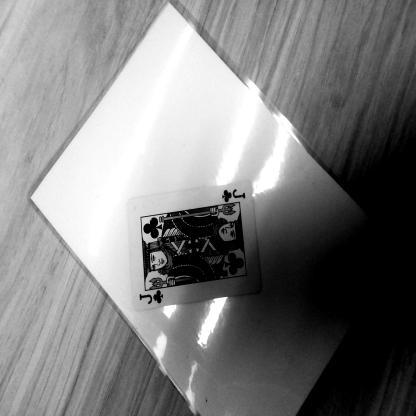JS: (216, 182, 256, 216), (139, 284, 174, 316)
